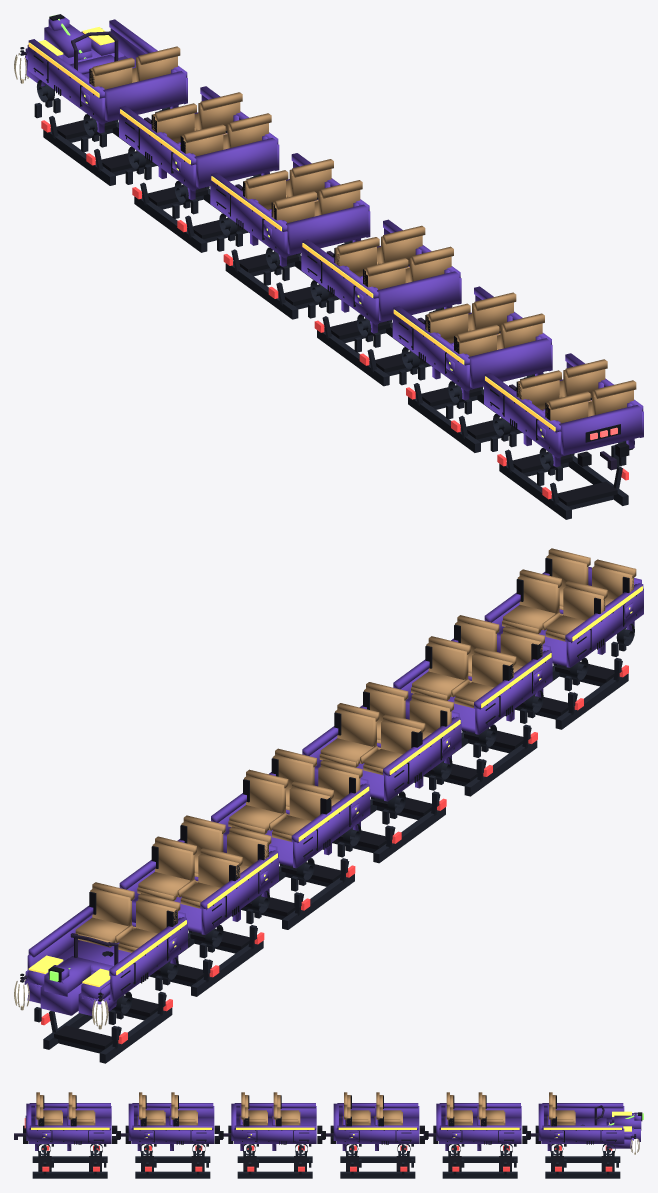
File: roller_coaster_train.glb
3 renders of one model, top to bottom at view 1: azimuth 30°, elevation 25°; view 2: azimuth 150°, elevation 25°; view 3: azimuth 270°, elevation 25°, orthographic. The views are drawn at different scales.
Parts seen in each view (by area): view 1: NL_C0_paint, NL_C2_paint, NL_C1_paint, NL_C4_paint, NL_C3_paint, NL_C5_paint, NL_C2_seat, NL_C5_seat, NL_C3_seat, NL_C1_seat, NL_C4_seat, NL_C5_wheel (+12 smaller); view 2: NL_C0_paint, NL_C5_seat, NL_C1_seat, NL_C3_seat, NL_C2_seat, NL_C4_seat, NL_C0_seat, NL_C2_paint, NL_C3_paint, NL_C4_paint, NL_C1_paint, NL_C5_paint (+12 smaller); view 3: NL_C0_paint, NL_C4_paint, NL_C2_paint, NL_C5_paint, NL_C1_paint, NL_C3_paint, NL_C1_wheel, NL_C5_wheel, NL_C3_wheel, NL_C2_wheel, NL_C4_wheel, NL_C0_wheel (+20 smaller).
Part boxes in pixels (x1,y1,x2,y2): NL_C0_paint: [25, 16, 187, 133]; NL_C2_paint: [210, 153, 370, 266]; NL_C1_paint: [119, 86, 279, 199]; NL_C4_paint: [392, 286, 552, 400]; NL_C3_paint: [301, 219, 461, 333]; NL_C5_paint: [484, 353, 643, 466]; NL_C2_seat: [244, 159, 362, 223]; NL_C5_seat: [517, 359, 636, 423]; NL_C3_seat: [335, 225, 453, 289]; NL_C1_seat: [152, 92, 271, 156]; NL_C4_seat: [426, 292, 544, 356]; NL_C5_wheel: [490, 385, 628, 519]; NL_C0_paint: [24, 900, 187, 1015]; NL_C5_seat: [502, 548, 636, 641]; NL_C1_seat: [137, 815, 271, 908]; NL_C3_seat: [319, 682, 453, 774]; NL_C2_seat: [228, 748, 362, 841]; NL_C4_seat: [411, 615, 544, 708]; NL_C0_seat: [75, 882, 180, 952]; NL_C2_paint: [211, 767, 370, 868]; NL_C3_paint: [302, 700, 461, 801]; NL_C4_paint: [393, 633, 552, 734]; NL_C1_paint: [119, 833, 278, 934]; NL_C5_paint: [484, 566, 643, 667]; NL_C0_paint: [538, 1103, 641, 1150]; NL_C4_paint: [128, 1103, 214, 1150]; NL_C2_paint: [333, 1103, 419, 1150]; NL_C5_paint: [26, 1103, 111, 1150]; NL_C1_paint: [436, 1103, 521, 1150]; NL_C3_paint: [231, 1103, 316, 1150]; NL_C1_wheel: [442, 1130, 517, 1178]; NL_C5_wheel: [32, 1130, 107, 1178]; NL_C3_wheel: [237, 1130, 312, 1178]; NL_C2_wheel: [340, 1130, 415, 1178]; NL_C4_wheel: [135, 1130, 210, 1178]; NL_C0_wheel: [545, 1130, 620, 1178].
Size of the model in its own units: 1.38 by 1.66 by 14.44.
